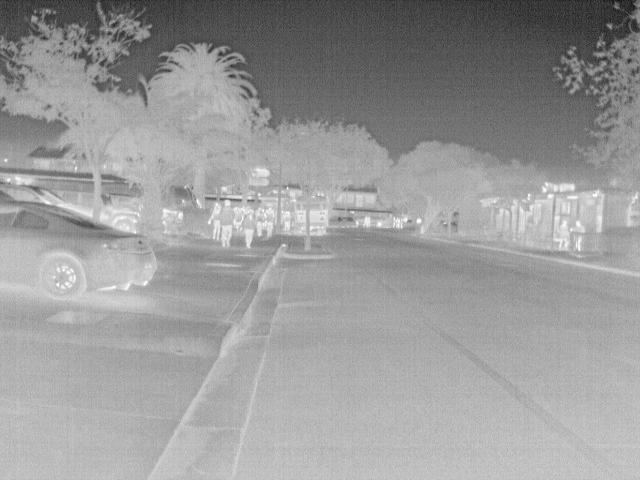car: (1, 199, 159, 298), (3, 181, 93, 221), (106, 200, 141, 234), (162, 206, 186, 236), (335, 214, 362, 228), (377, 216, 394, 228)
person: (217, 198, 236, 246), (206, 201, 224, 240), (240, 210, 259, 246), (559, 220, 574, 252), (264, 205, 276, 239), (255, 205, 264, 238), (572, 218, 586, 232)
